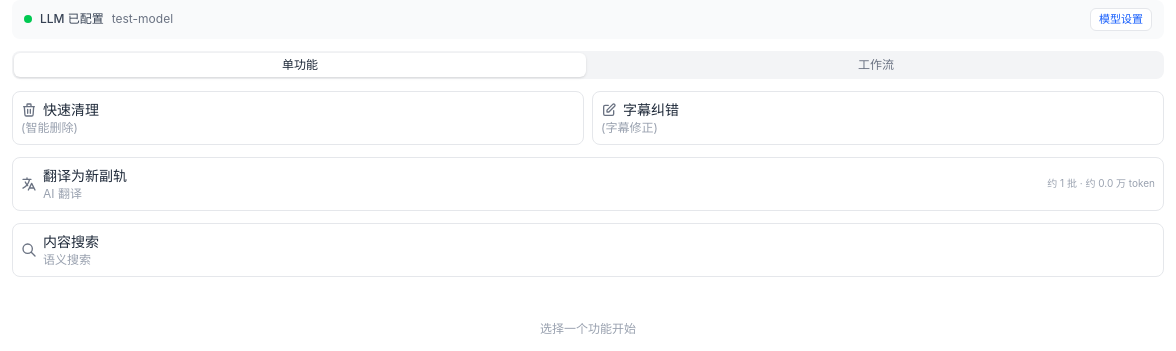
Test case: AIAssistantPanel -- workflow mode › shows execution progress when workflow is active
Note: Switch to workflow mode
Step 1. Click the button "工作流" → click(876, 64), box [590, 52, 1162, 76]
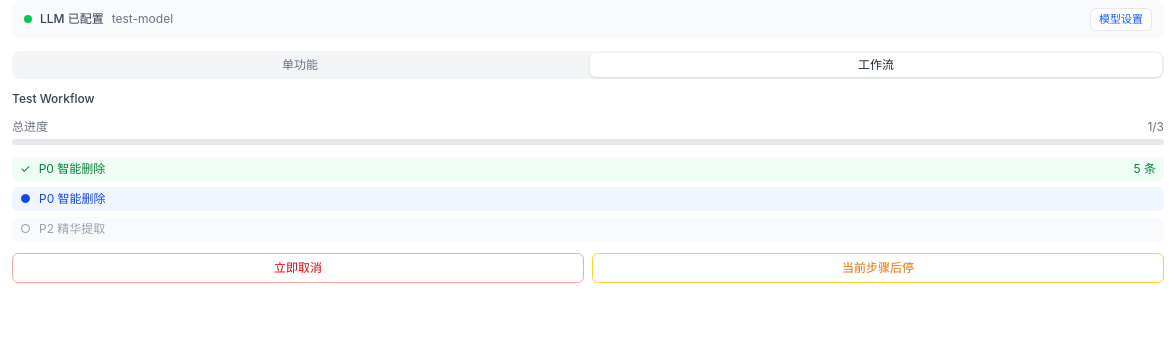
Expected: the text "Test Workflow" is shown, [12, 90, 94, 106]
Expected: the text "1/3" is shown, [1147, 118, 1164, 134]
Expected: the text "5 条" is shown, [1134, 160, 1156, 176]
